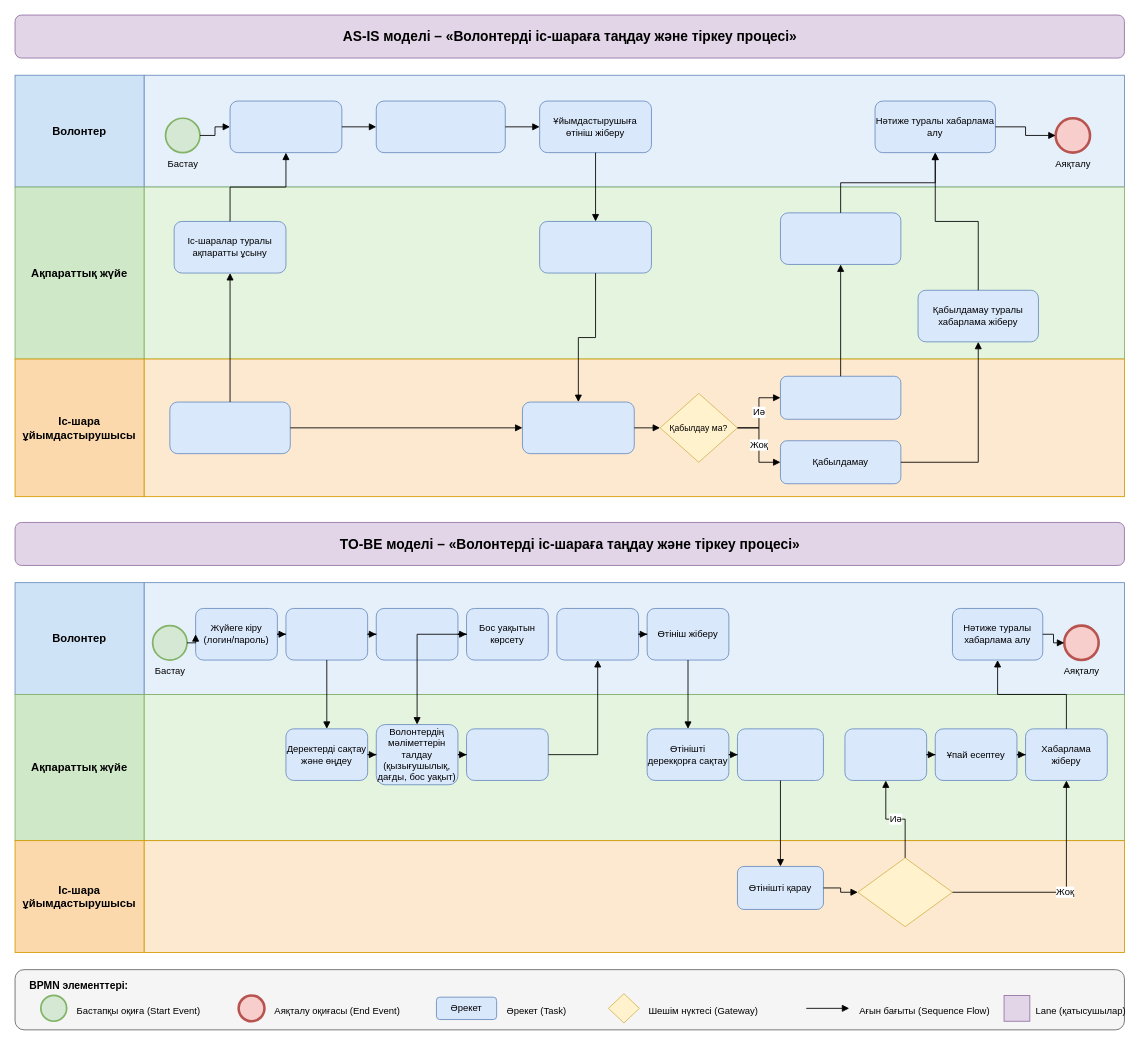
Image size: 1141x1045. Some labels were removed from this diagram. Here are the shapes that lost their labels. From the top down, the centre of each, then its label:
At pixel 285 126: "Іс-шара туралы ақпаратты іздеу".
At pixel 440 126: "Өзінің қызығушылығы мен дағдыларына сәйкес іс-шараны таңдау".
At pixel 595 247: "Өтінішті өңдеу (сақтау)".
At pixel 840 238: "Волонтерге қабылдау туралы хабарлама жіберу".
At pixel 840 397: "Волонтерді іс-шараға қабылдау".
At pixel 229 427: "Іс-шара туралы ақпарат енгізу".
At pixel 578 427: "Өтініштерді қарау".
At pixel 326 634: "Жеке профилін толтыру".
At pixel 416 634: "Қызығушылықтары мен дағдыларын енгізу".
At pixel 597 634: "Ұсынылған іс-шараларды қарау және таңдау".
At pixel 507 754: "Сәйкес іс-шараларды іздеу және ұсыну".
At pixel 780 754: "Ұйымдастырушыға хабарлама жіберу".
At pixel 885 754: "Қатысуды тіркеу".
At pixel 904 892: "Өтініш қабылданды ма?".
